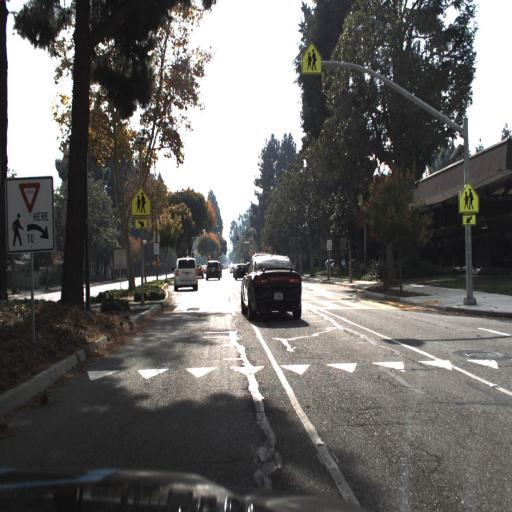car: (238, 248, 307, 326), (176, 253, 203, 288), (205, 256, 225, 279), (204, 258, 221, 284), (195, 261, 205, 282), (193, 265, 204, 276)
